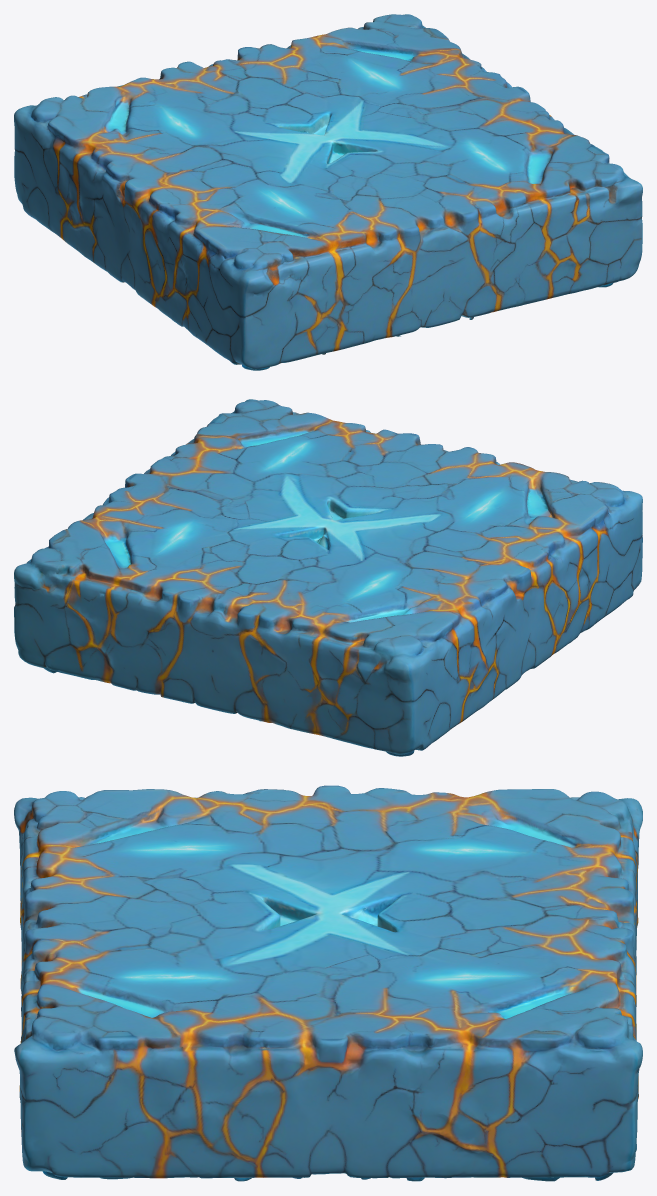
The model's file is Meshy_AI_a_lightining_tile_at__1115233246_texture.glb.
3 renders of one model, top to bottom at view 1: azimuth 30°, elevation 25°; view 2: azimuth 150°, elevation 25°; view 3: azimuth 270°, elevation 25°, orthographic. The views are drawn at different scales.
Size of the model in its own units: 1.97 by 0.5291 by 1.99.
1 material, 1 textured.
